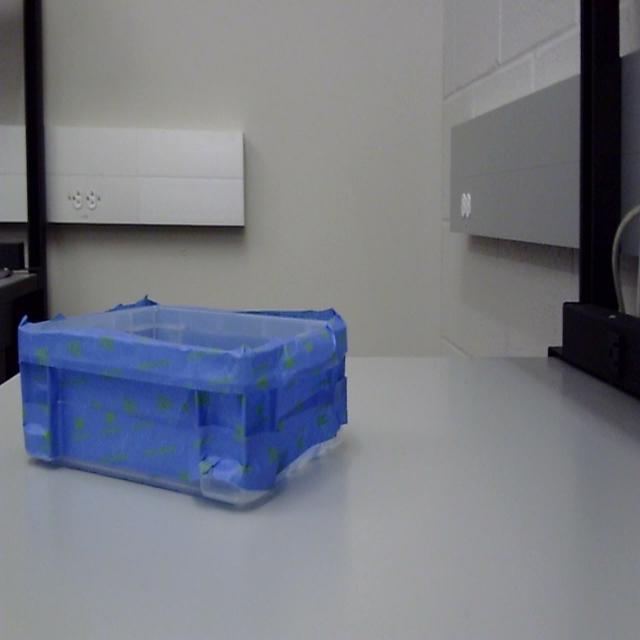bucket: (16, 300, 350, 513)
